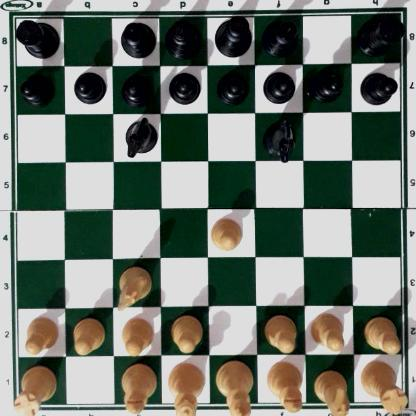black-bishop: (260, 16, 300, 55), (118, 19, 155, 56)
black-king: (211, 13, 252, 58)
black-knight: (263, 117, 296, 161), (124, 116, 156, 155)
black-pawn: (360, 69, 396, 105), (263, 67, 295, 103), (168, 68, 199, 105), (73, 69, 105, 104), (20, 72, 54, 104), (311, 67, 342, 102), (121, 71, 152, 106), (216, 68, 247, 103)
black-queen: (164, 16, 202, 58)
black-rook: (12, 15, 59, 58), (357, 10, 400, 55)
white-bishop: (266, 361, 304, 414), (120, 363, 156, 415)
white-king: (216, 362, 253, 416)
white-knight: (313, 367, 349, 414), (115, 263, 151, 308)
white-pawn: (309, 310, 346, 350), (22, 314, 58, 354), (263, 312, 297, 354), (364, 314, 400, 351), (118, 316, 153, 354), (169, 313, 202, 351), (71, 316, 104, 354), (210, 216, 243, 252)
white-queen: (166, 361, 204, 416)
white-rook: (361, 356, 404, 413), (15, 360, 55, 416)
